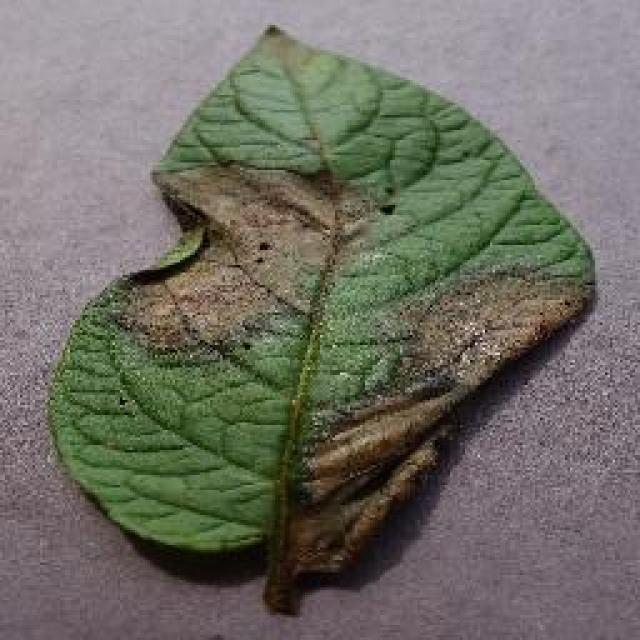Late_blight: (66, 137, 584, 583)
